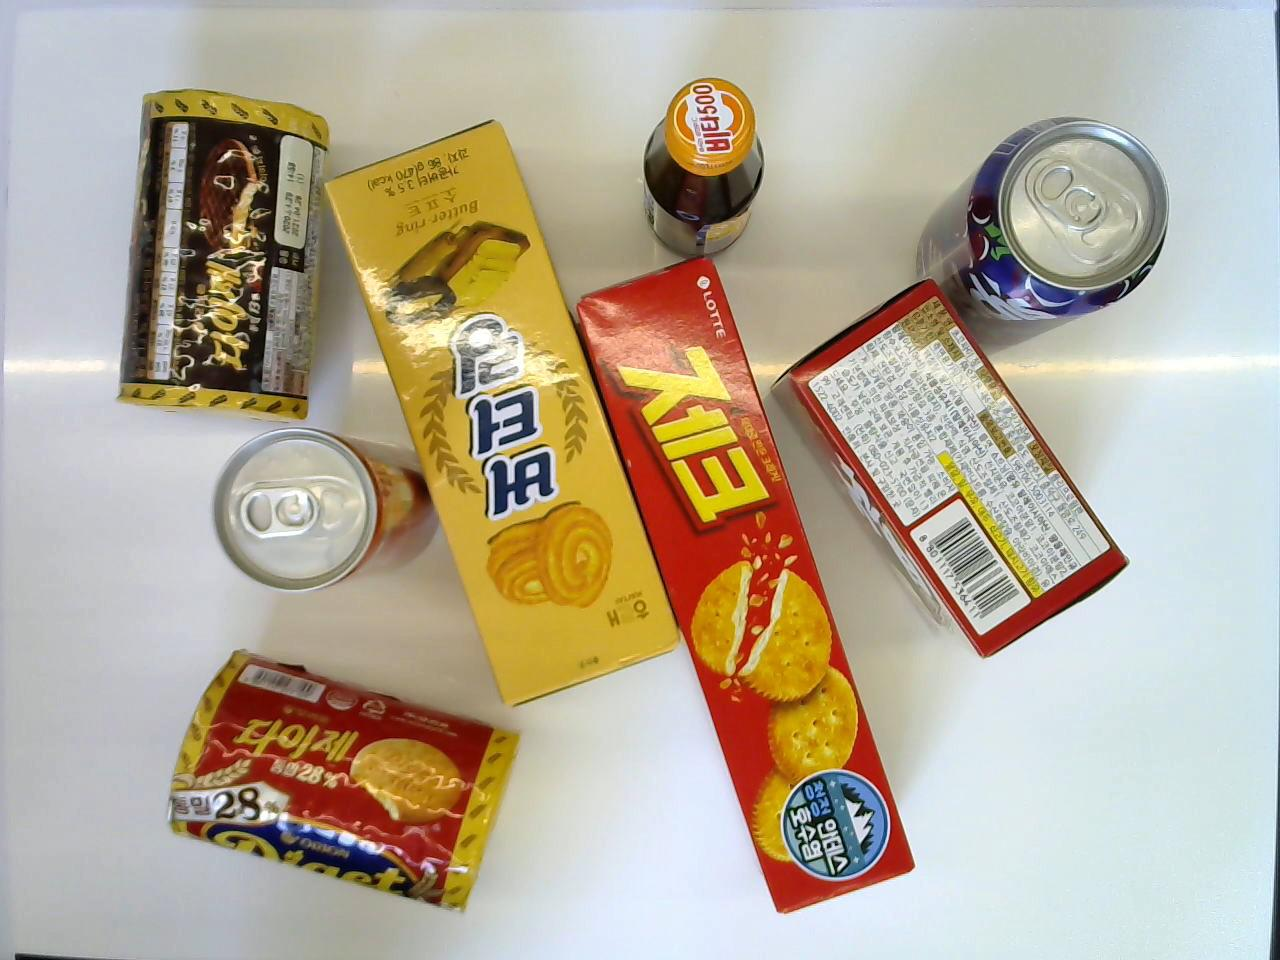buttering: (315, 117, 684, 712)
chocopie: (766, 278, 1130, 659)
coke: (205, 428, 447, 588)
diget_choco: (116, 83, 325, 423)
diget_ori: (162, 649, 522, 916)
vita500: (639, 77, 768, 262)
welchs: (917, 116, 1172, 336)
zec: (570, 257, 918, 918), (162, 649, 522, 916)
